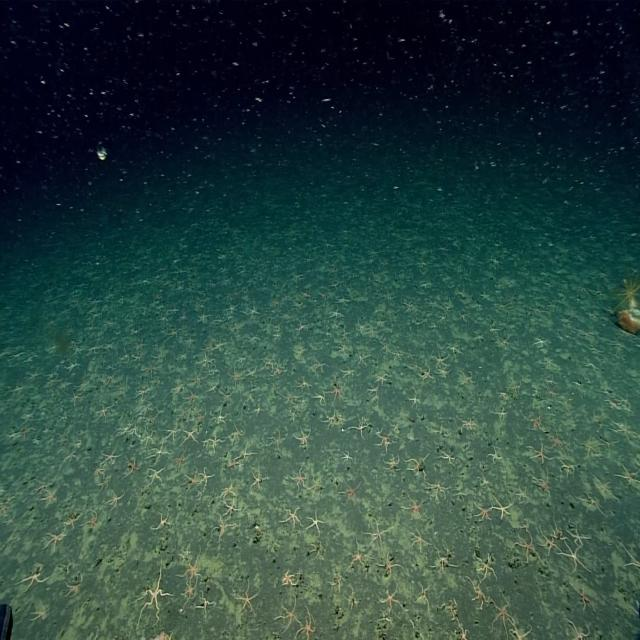brittle-stars: (128, 557, 175, 634), (492, 583, 526, 640), (362, 515, 402, 560), (376, 585, 416, 624), (616, 526, 640, 588), (270, 595, 305, 637), (518, 526, 547, 576), (228, 580, 260, 624), (563, 538, 596, 578), (576, 429, 612, 465), (12, 565, 50, 599), (430, 545, 464, 581), (613, 448, 640, 492), (580, 486, 608, 527), (591, 470, 619, 511), (404, 447, 433, 486), (379, 551, 411, 586), (472, 572, 498, 615), (57, 570, 86, 608), (180, 547, 205, 591), (274, 502, 302, 541), (496, 490, 522, 531), (20, 598, 48, 636), (407, 524, 440, 556), (354, 534, 374, 583), (344, 474, 367, 516), (613, 417, 640, 452), (295, 603, 320, 640), (576, 584, 603, 618), (543, 529, 568, 565), (550, 428, 578, 460), (240, 439, 268, 470), (528, 440, 560, 467), (225, 418, 251, 451), (147, 439, 176, 468), (38, 529, 66, 559), (40, 482, 64, 516), (404, 493, 432, 522), (475, 555, 504, 583), (274, 566, 301, 596), (581, 354, 611, 381), (197, 587, 218, 625), (347, 410, 369, 446), (476, 500, 499, 534), (419, 580, 438, 620), (117, 453, 140, 486), (208, 515, 235, 543), (570, 522, 598, 549), (296, 423, 322, 452), (268, 428, 293, 458), (444, 593, 469, 623), (292, 464, 316, 495), (179, 575, 200, 610), (304, 505, 326, 538), (527, 408, 551, 438), (512, 369, 533, 402), (327, 566, 348, 598), (322, 406, 340, 443), (183, 467, 205, 497), (569, 620, 602, 640), (536, 469, 558, 499), (440, 443, 462, 473), (192, 361, 212, 393), (172, 448, 196, 474), (338, 445, 361, 472), (136, 400, 163, 423), (150, 509, 171, 538), (91, 400, 114, 426), (540, 354, 566, 377), (96, 444, 123, 466), (490, 443, 512, 470), (311, 471, 332, 499), (400, 389, 421, 417), (221, 496, 245, 520), (430, 481, 453, 506), (78, 509, 100, 535), (204, 434, 230, 456), (418, 365, 440, 391), (313, 385, 332, 415), (215, 406, 236, 433), (534, 327, 557, 351), (166, 419, 185, 448), (312, 354, 333, 380), (201, 465, 219, 495), (223, 477, 241, 507), (308, 540, 330, 564), (328, 303, 352, 325), (460, 615, 481, 640), (199, 346, 220, 371), (63, 508, 81, 537), (145, 465, 165, 491), (514, 623, 544, 640), (464, 416, 486, 439), (250, 470, 268, 498), (496, 402, 514, 430), (135, 378, 159, 399), (354, 352, 378, 373), (55, 557, 74, 583), (458, 368, 475, 397), (186, 425, 208, 447), (564, 460, 586, 482), (105, 490, 126, 513), (382, 453, 402, 477), (554, 524, 578, 544), (517, 482, 534, 510), (332, 383, 351, 408), (283, 390, 309, 408), (455, 486, 477, 507), (351, 590, 368, 617), (214, 337, 234, 359), (31, 476, 50, 499), (376, 432, 391, 461), (367, 382, 388, 402), (291, 344, 312, 364), (220, 386, 240, 407), (62, 447, 81, 469), (184, 391, 209, 407), (231, 366, 251, 386), (341, 362, 360, 383), (210, 360, 228, 382), (118, 418, 135, 441), (433, 351, 456, 368), (83, 624, 107, 640), (96, 473, 112, 497), (1, 508, 20, 528), (261, 352, 281, 371), (230, 453, 246, 476), (253, 400, 269, 423), (249, 361, 263, 387), (143, 428, 161, 448), (335, 406, 350, 430), (374, 368, 394, 386), (209, 380, 225, 402), (146, 413, 162, 435), (394, 343, 410, 365), (548, 383, 567, 401), (194, 409, 214, 426), (248, 298, 261, 324), (437, 366, 458, 382), (272, 362, 288, 383), (606, 392, 619, 417), (288, 407, 306, 425), (407, 345, 424, 364), (484, 470, 496, 493), (369, 423, 385, 440), (298, 375, 315, 391), (56, 408, 69, 428), (236, 352, 252, 368), (522, 518, 538, 534), (0, 492, 11, 515), (176, 378, 188, 399), (93, 464, 105, 483), (412, 362, 428, 376), (70, 389, 83, 406), (134, 421, 144, 440), (500, 388, 511, 404)
